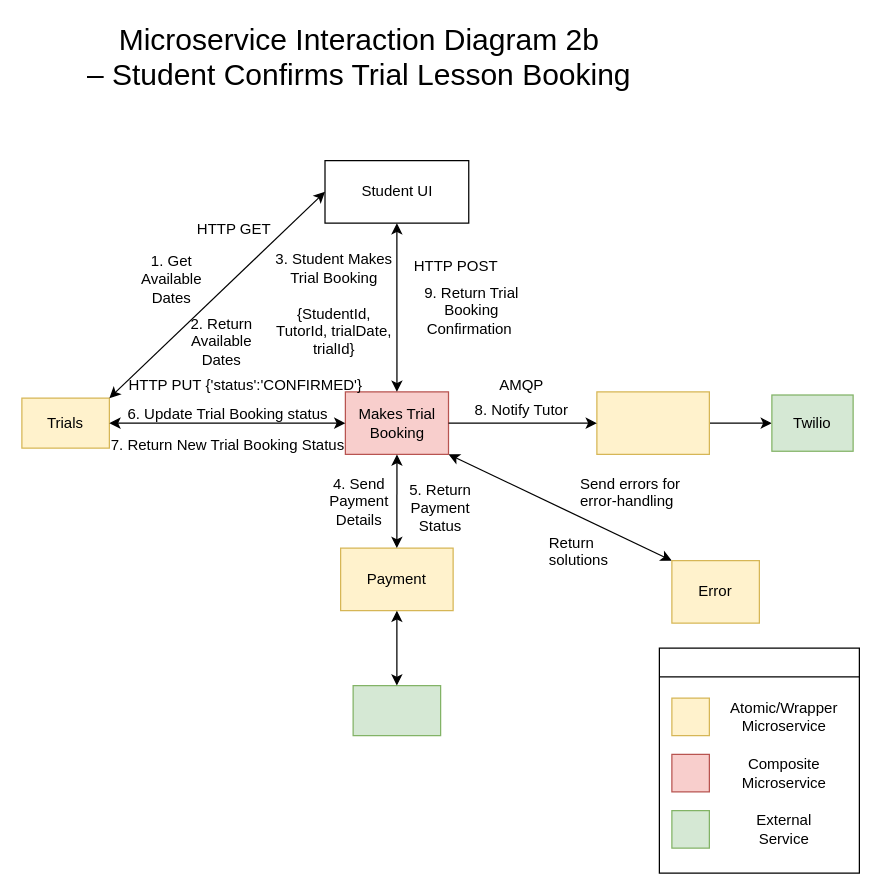
Image size: 881x895. Some labels were removed from this diagram. The shapes that lost their labels are listed below. From the top down, each one's box as (x1, y1, x2, y2) in pixels, then its label:
(596, 391, 709, 454): Notification
(352, 684, 441, 736): Stripe
(658, 647, 859, 873): Legend
